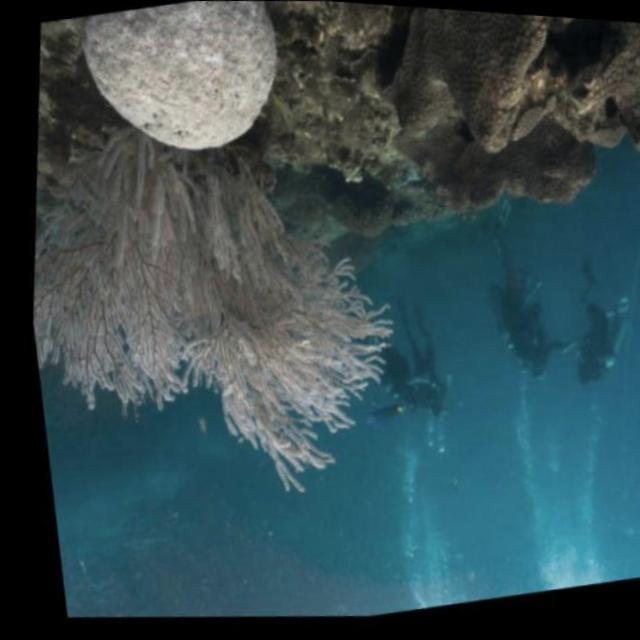Dead Coral: (335, 0, 640, 244)
